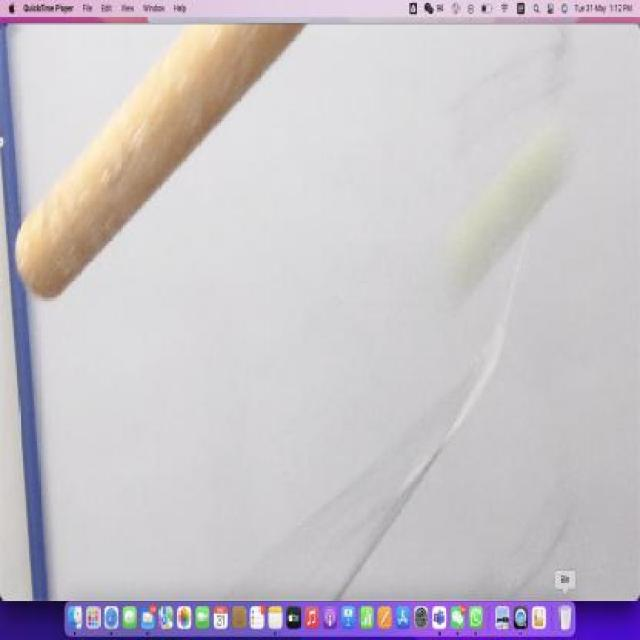baseball: (445, 128, 570, 307)
